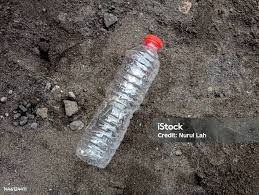Botella: (76, 34, 162, 167)
